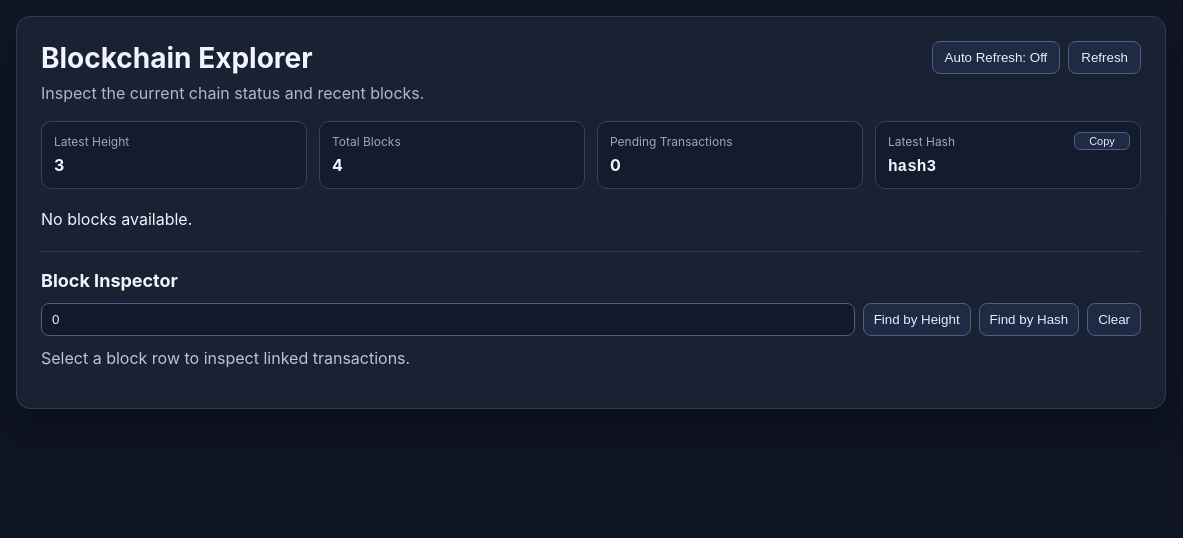
it: supports manual lookup by hash
expect the text "No blocks available." is shown: met, box [41,209,192,229]
Replace the text in the field named "Block lookup input" with "hash_two" at (448, 320), box [41,303,855,336]
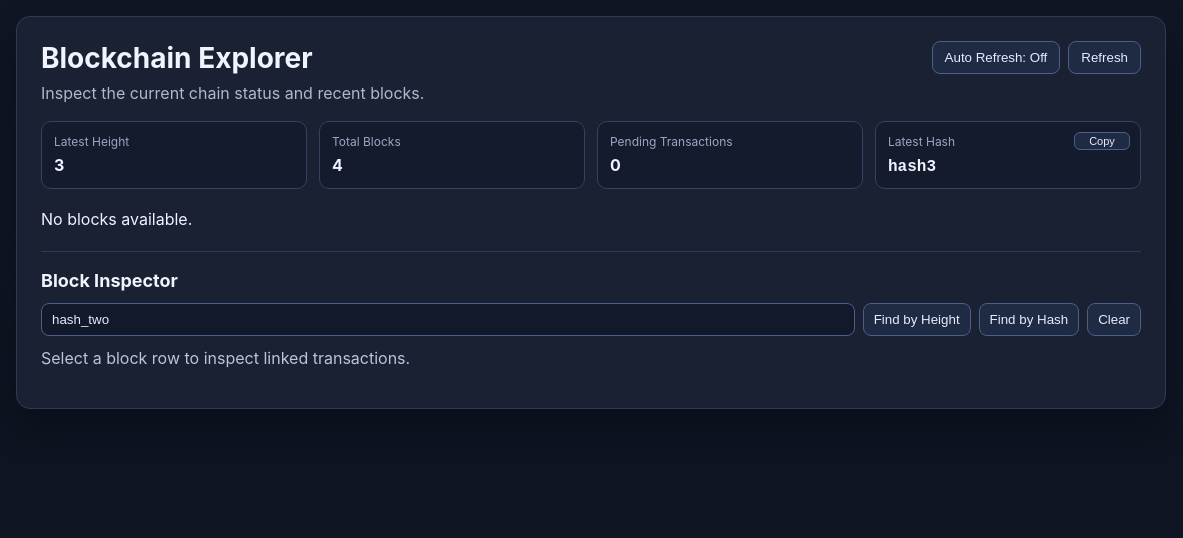
Click the button "Find by Hash" at (1029, 320), box [979,303,1079,336]
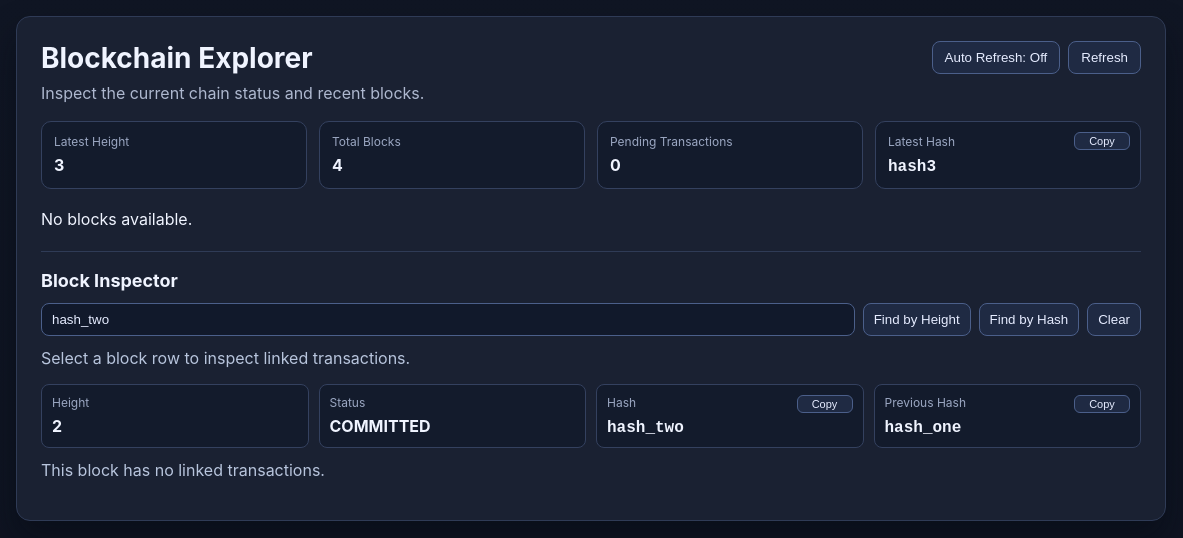
expect the text "hash_two" is shown: met, box [607,419,684,437]
